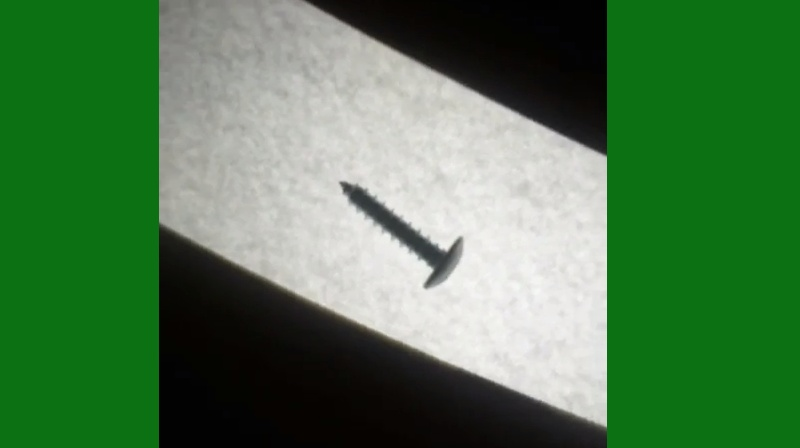S003: (332, 174, 467, 294)
